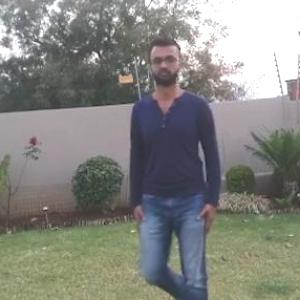follow: (119, 36, 216, 299)
